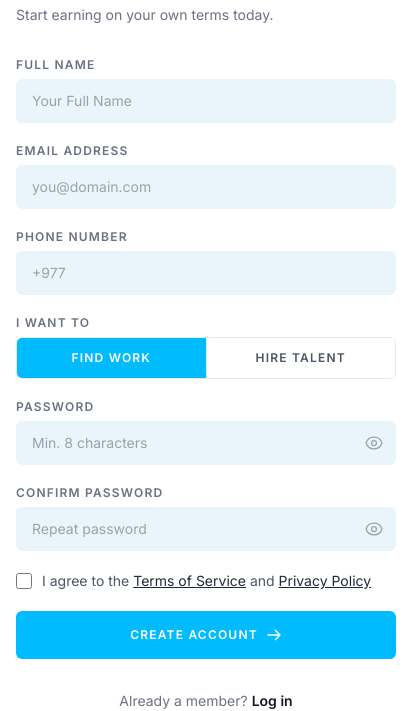
Scenario: RegisterPage Component Tests › displays validation errors per required field when registration action returns errors
(page scrolled)
Click the button "CREATE ACCOUNT".
click(206, 635)  # box [16,611,396,659]
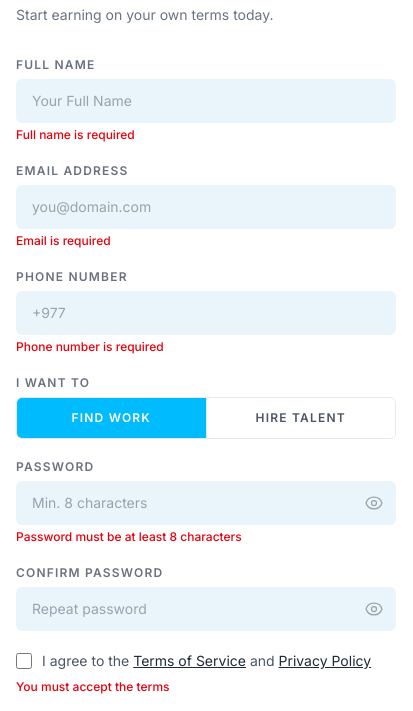
Result: the text "Full name is required" is shown at [16,127,135,142]
Result: the text "Email is required" is shown at [16,233,111,248]
Result: the text "Phone number is required" is shown at [16,339,164,354]
